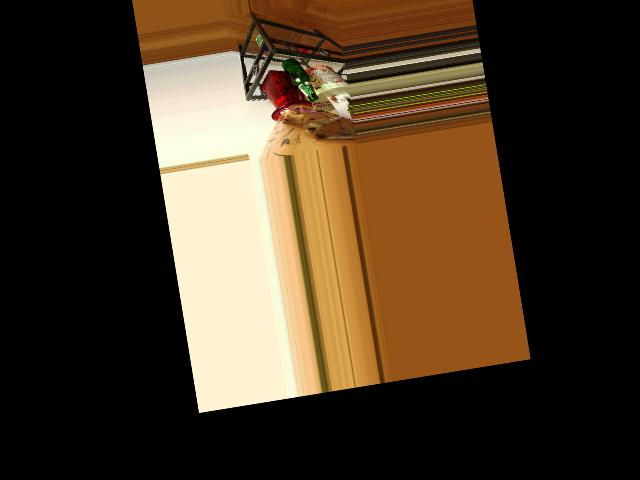beer: (281, 54, 318, 105)
